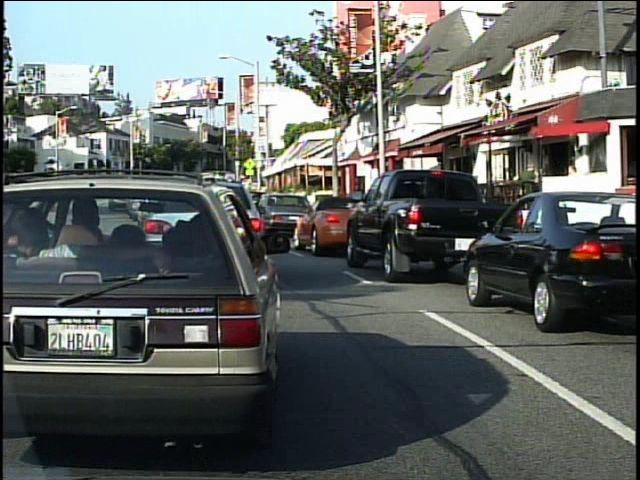person: (516, 157, 542, 225)
